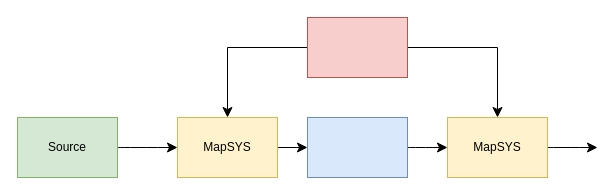
Image size: 614x195. Some labels were removed from this diagram. The shapes that lost their labels are listed below. From the top down, each one's box as (x1, y1, x2, y2) in pixels, then its label:
(306, 16, 408, 78): Constellation
(306, 116, 408, 178): Channel
